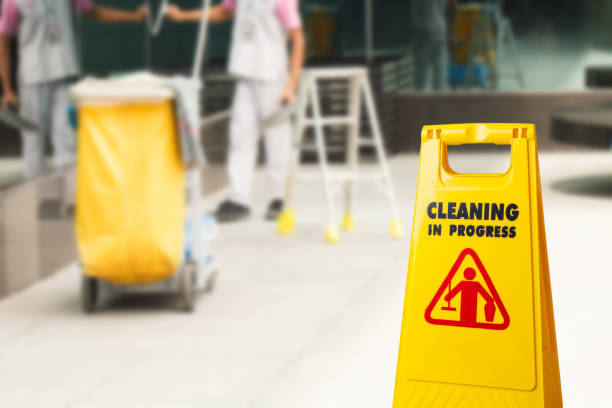wet caution sign: (404, 130, 545, 408)
